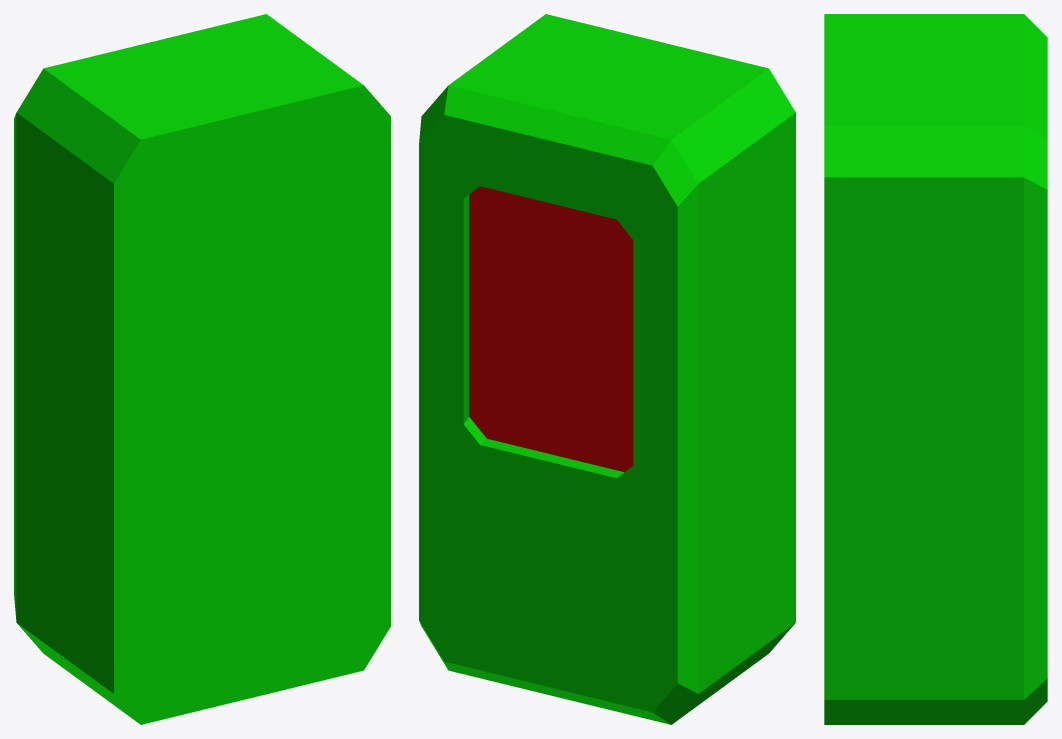
The model's file is nevera.fbx.
3 renders of one model, left to right at view 1: azimuth 30°, elevation 25°; view 2: azimuth 150°, elevation 25°; view 3: azimuth 270°, elevation 25°, orthographic. The views are drawn at different scales.
Visible parts, largest first — view 1: Nevera; view 2: Nevera; view 3: Nevera.
Part boxes in pixels (x1,y1,x2,y2): Nevera: (14, 14, 390, 724); Nevera: (419, 14, 795, 724); Nevera: (824, 14, 1047, 724).
Bounding box in the file's own units: 2.2 × 4.44 × 1.5.
